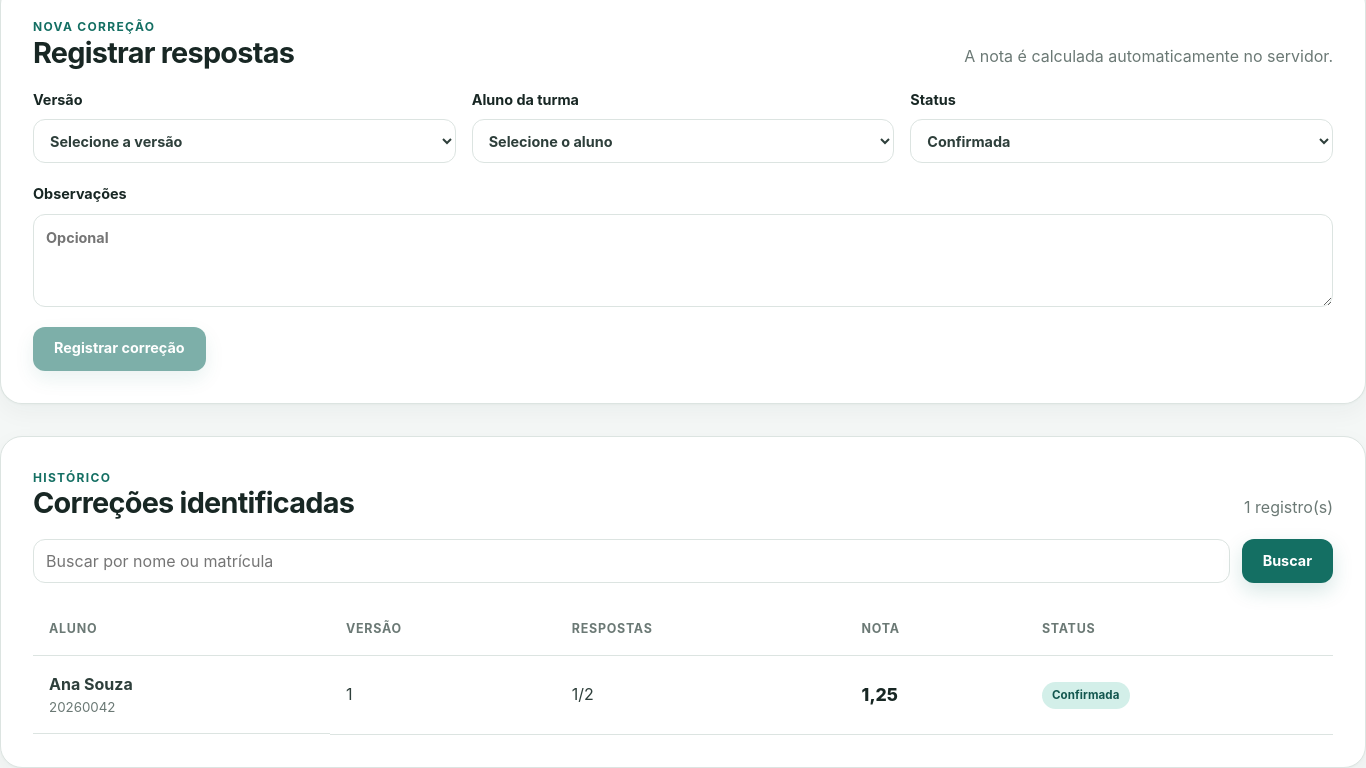
Test case: tela de correcoes › envia a busca ao servidor e apresenta erro sem inventar registros locais
(page scrolled)
Step 1. Type "Ana" into the search field with placeholder "Buscar por nome ou matrícula" → [631, 561], box [33,539,1230,583]
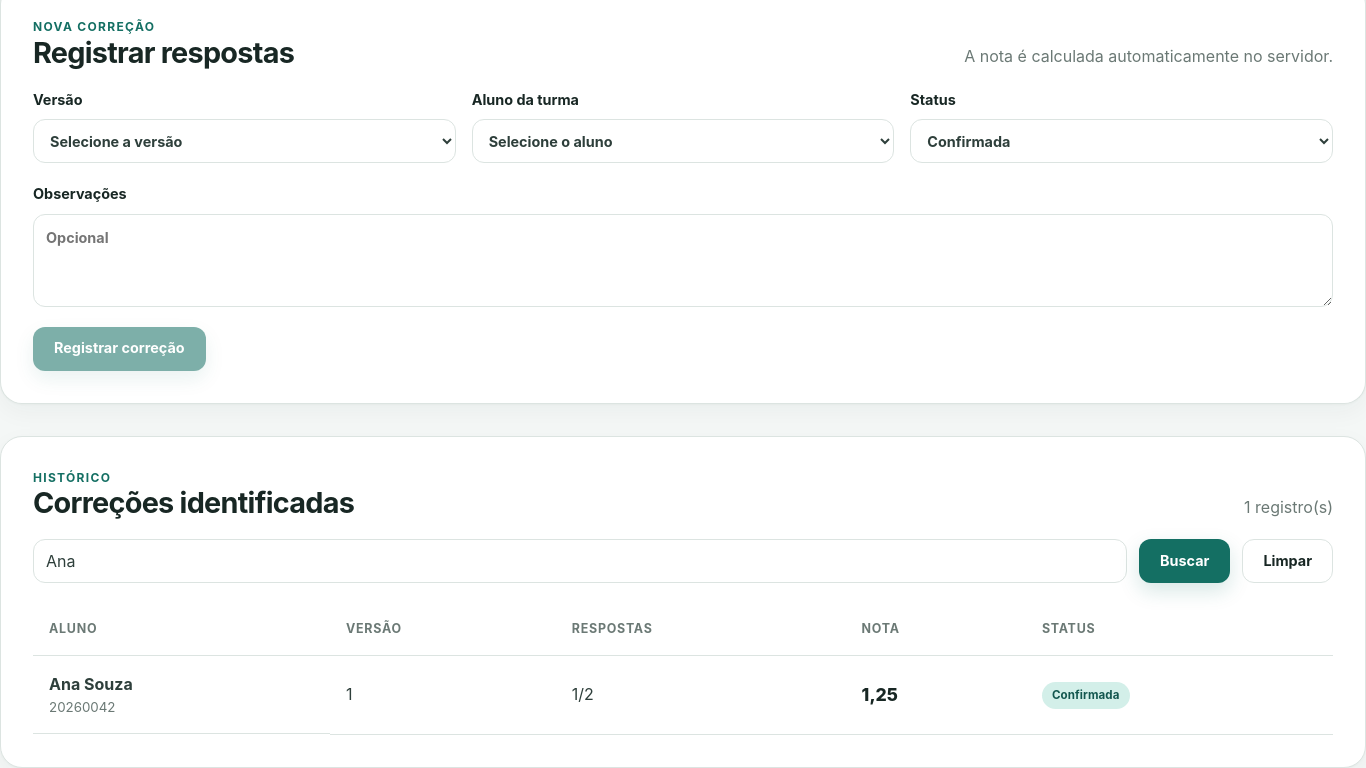
Step 2. Submit the form with test id "correction-search-form", box [33,539,1333,583]
Step 3. Submit the form with test id "correction-search-form", box [33,539,1333,583]
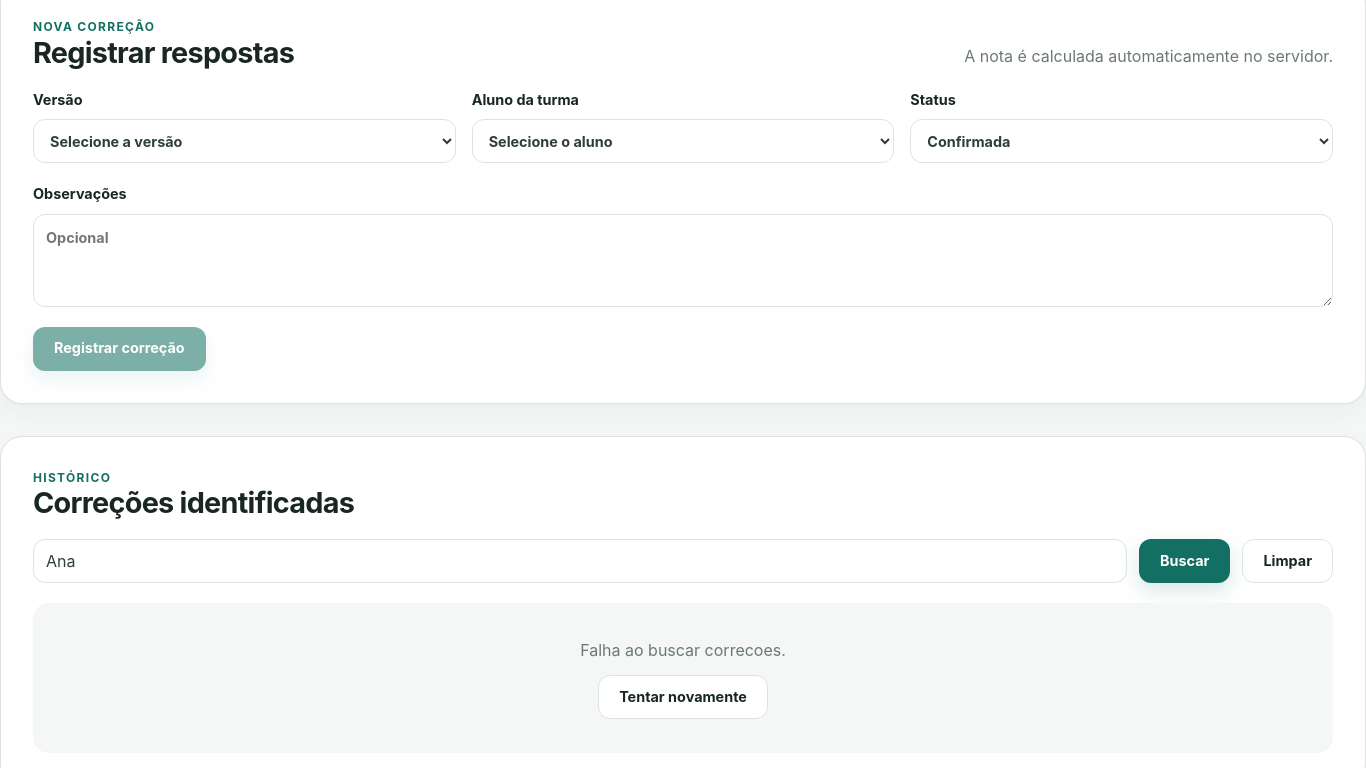
Now the message with test id "corrections-error" shows "Falha", box [580,640,786,660]
